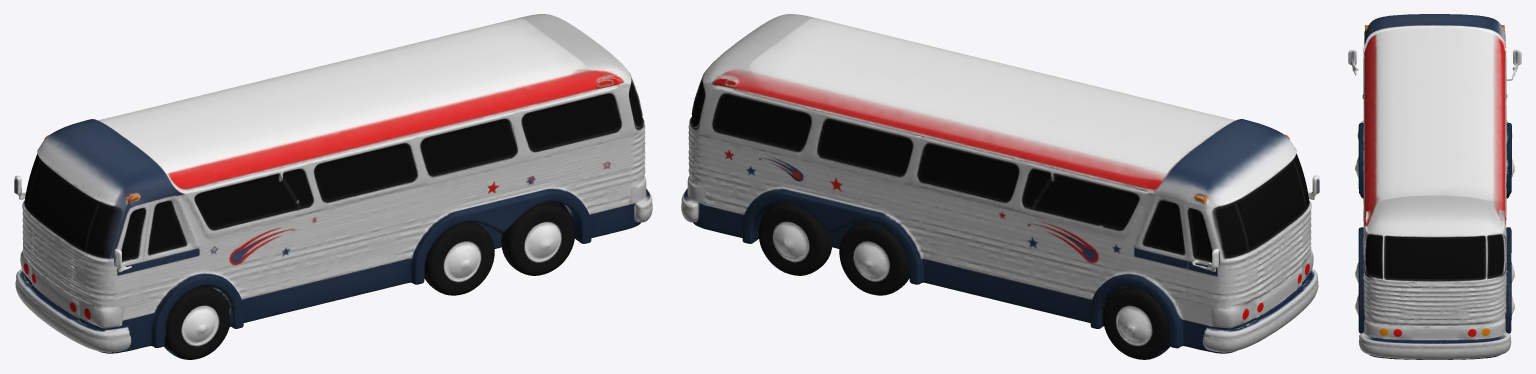
Rendered from cars_truck_travelbus.glb.
3 views of the same model, side by side, from view 1: azimuth 30°, elevation 25°; view 2: azimuth 150°, elevation 25°; view 3: azimuth 270°, elevation 25° (orthographic). The views are drawn at different scales.
Bounding box in the file's own units: 1.9 × 0.613 × 0.6013.
Materials: 1 (1 with a texture image).
